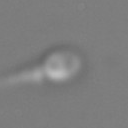normal: (1, 64, 45, 94)
